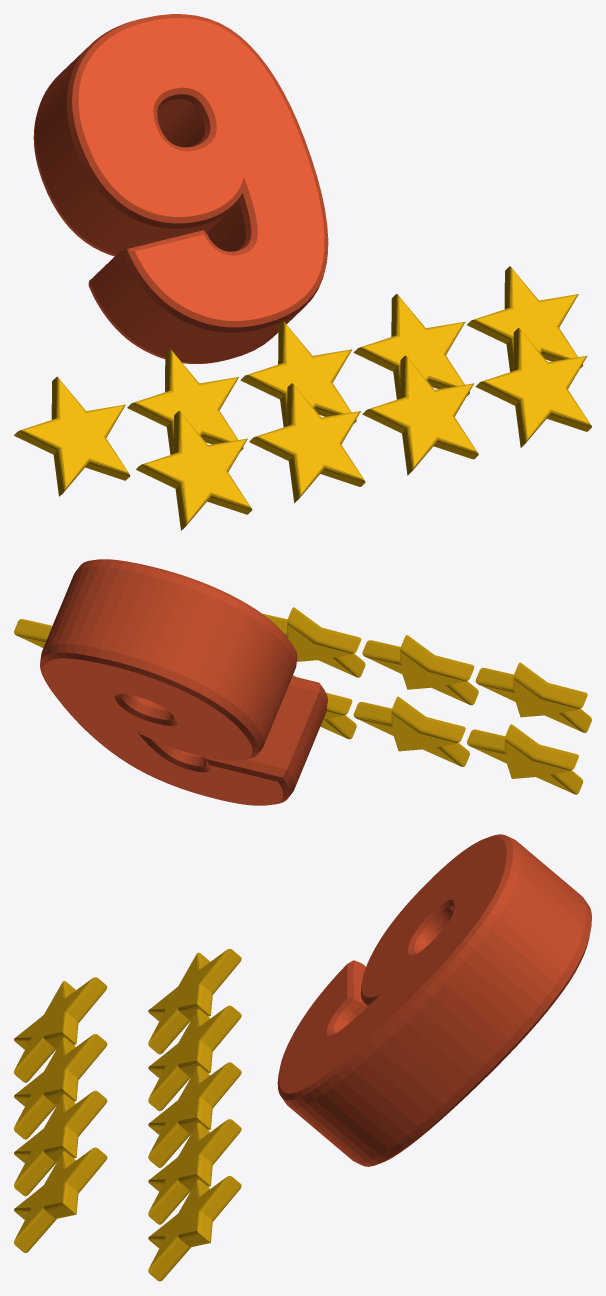
The model's file is num_9.glb.
The picture shows the model from 3 angles, top to bottom: view 1: azimuth 30°, elevation 25°; view 2: azimuth 150°, elevation 25°; view 3: azimuth 270°, elevation 25°; orthographic projection. The views are drawn at different scales.
Bounding box in the file's own units: 2.08 × 1.03 × 1.81.
